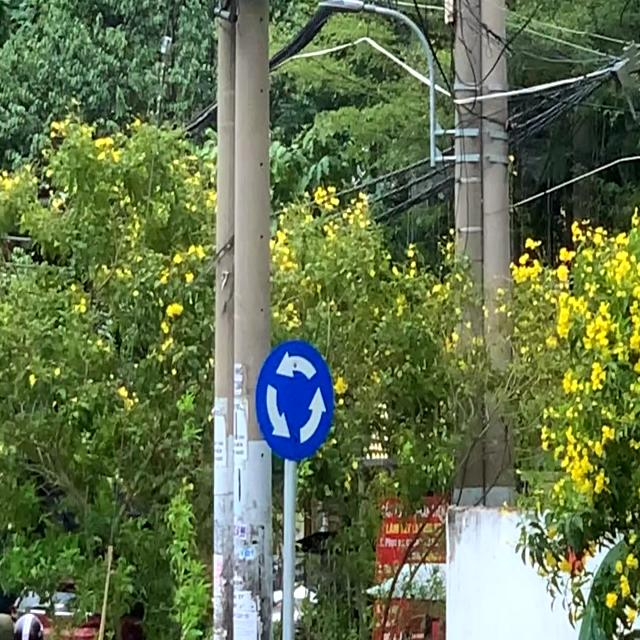R.303: (258, 341, 337, 460)
